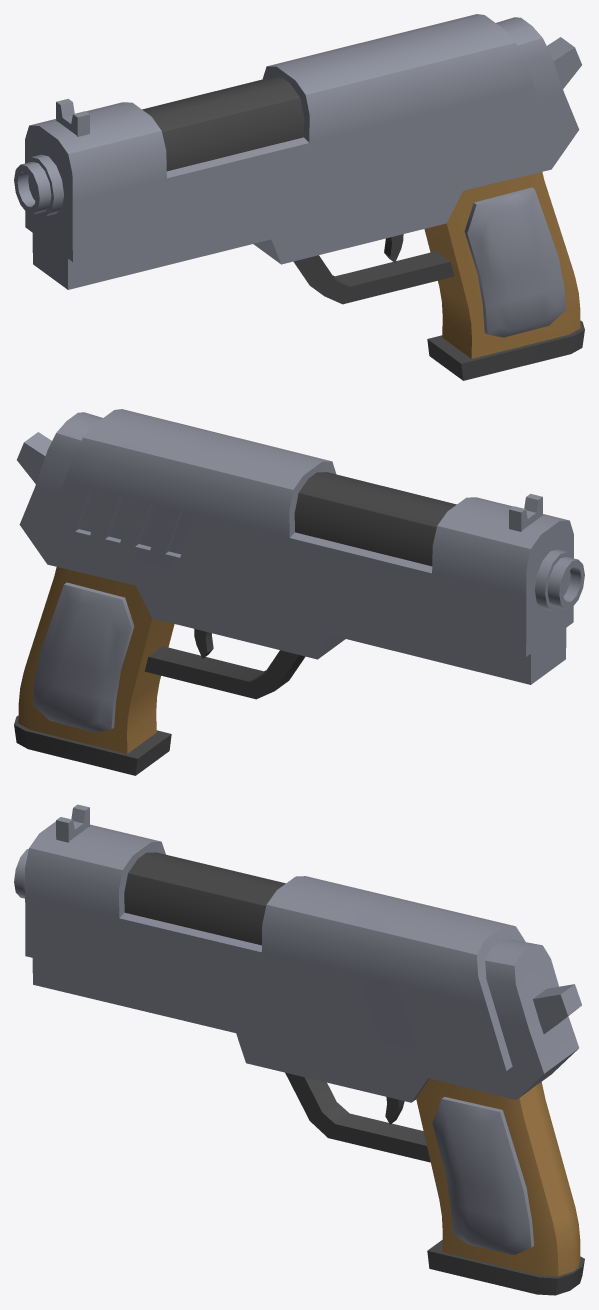
File: Pistol.glb
The picture shows the model from 3 angles, top to bottom: view 1: azimuth 30°, elevation 25°; view 2: azimuth 150°, elevation 25°; view 3: azimuth 330°, elevation 25°; orthographic projection.
Parts seen in each view (by area): view 1: Pistol; view 2: Pistol; view 3: Pistol.
Part boxes in pixels (x1,y1,x2,y2): Pistol: (14,14,584,380); Pistol: (14,409,584,775); Pistol: (14,804,584,1295).
Size of the model in its own units: 0.7909 by 0.4822 by 0.1181.
